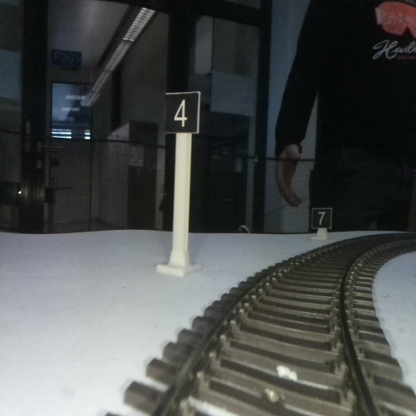black-info-4: (164, 93, 198, 271)
black-stop-7: (312, 208, 331, 237)
